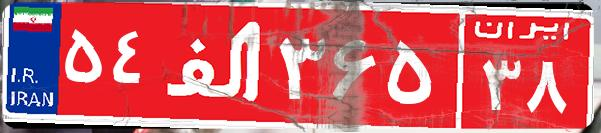3: (273, 28, 330, 110), (475, 38, 525, 113)
4: (110, 28, 158, 105)
5: (385, 28, 445, 110), (57, 26, 110, 107)
6: (330, 28, 385, 110)
8: (525, 38, 570, 115)
الف: (158, 15, 273, 115)
